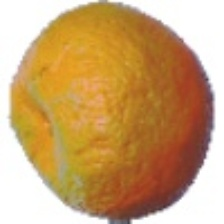tangerine: (14, 43, 167, 194)
